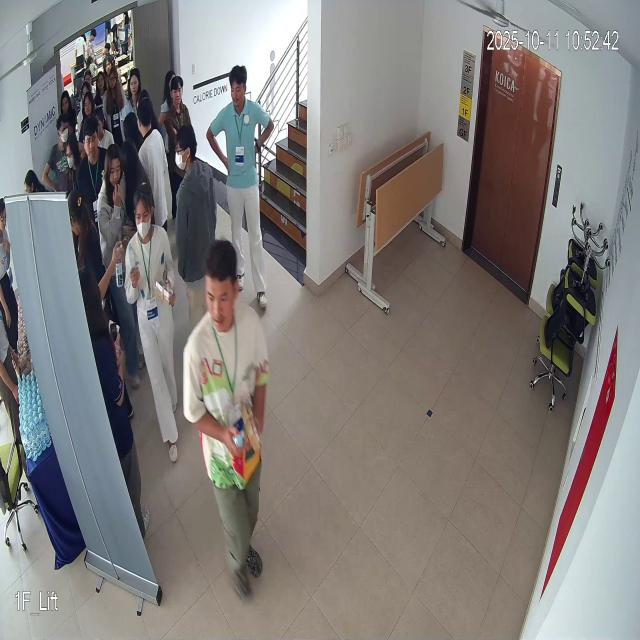face: (128, 181, 158, 248)
